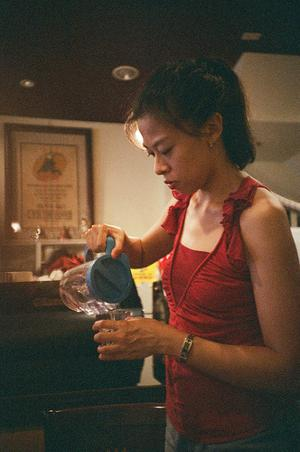person: (84, 54, 300, 452)
